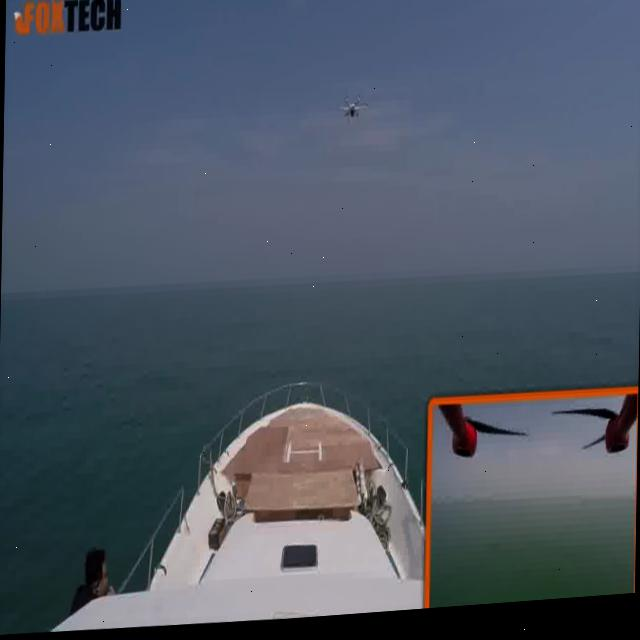drone: (338, 82, 371, 135)
